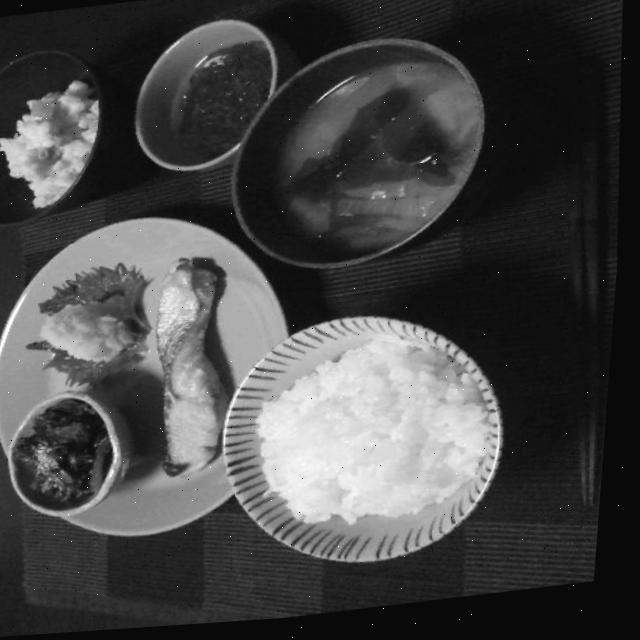熟制海鲜: (132, 243, 248, 519)
